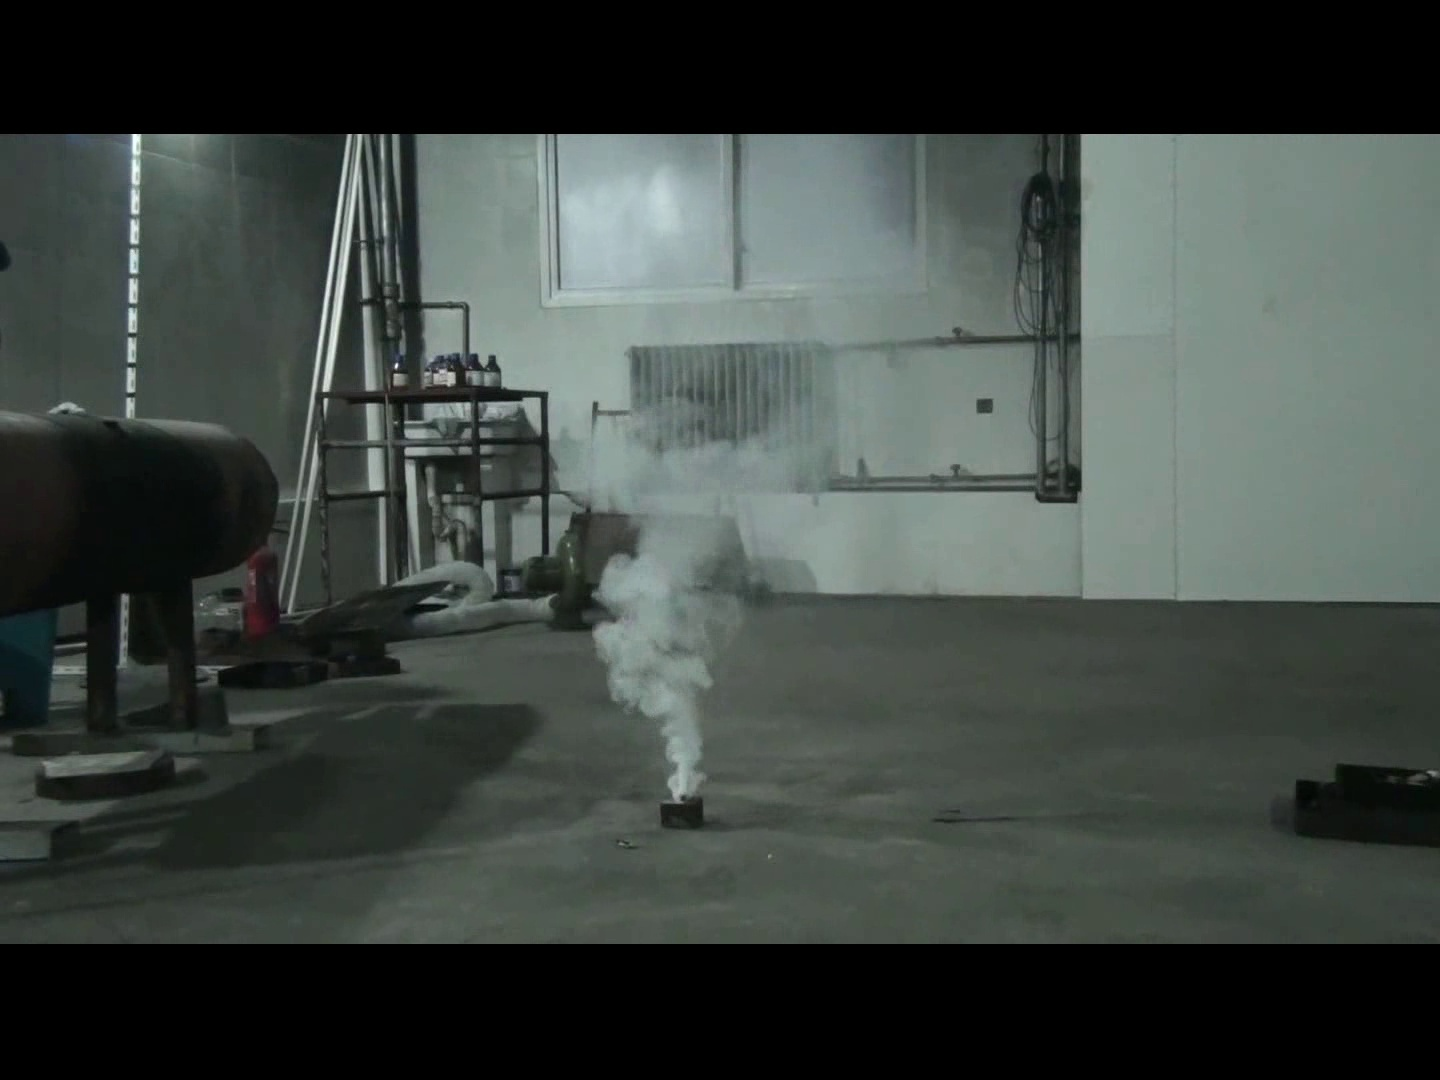smoke: (543, 304, 893, 801)
